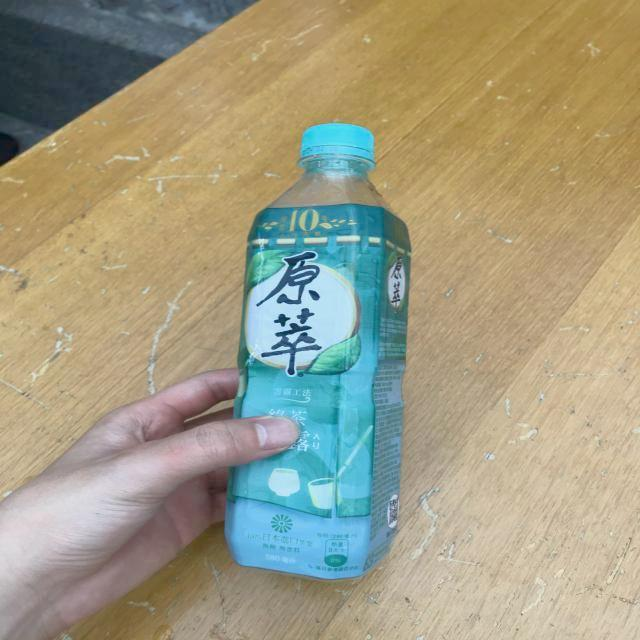bottle: (224, 124, 411, 580)
